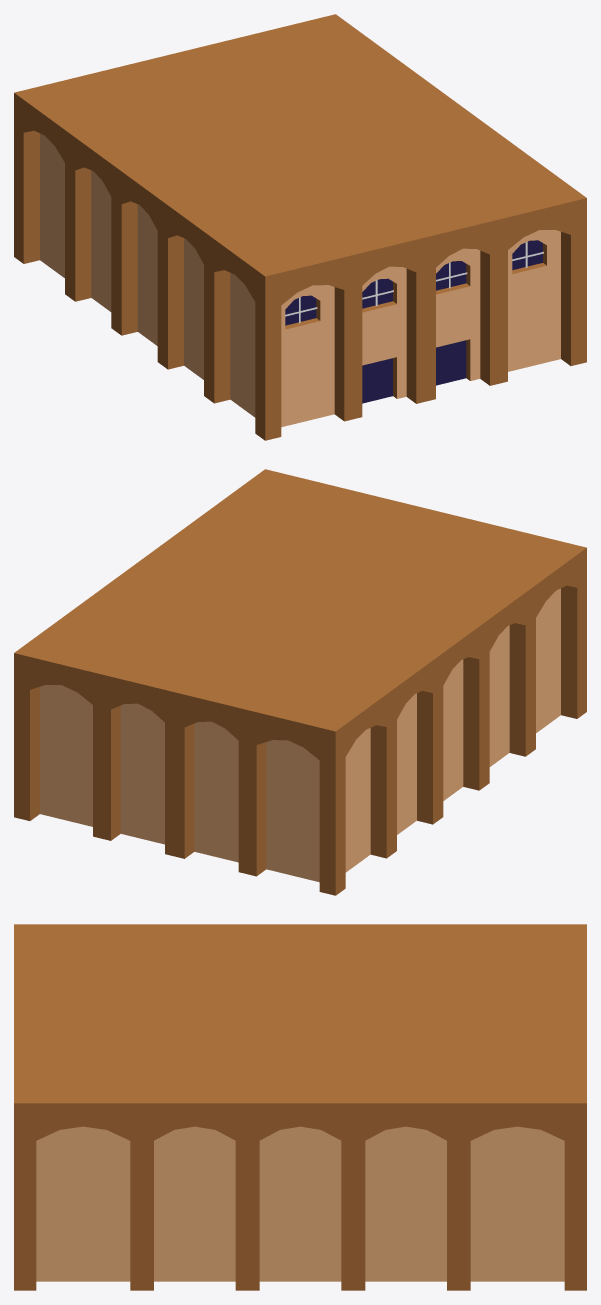
Rendered from UABCSGeneric2.glb.
The picture shows the model from 3 angles, top to bottom: view 1: azimuth 30°, elevation 25°; view 2: azimuth 150°, elevation 25°; view 3: azimuth 270°, elevation 25°; orthographic projection. The views are drawn at different scales.
Visible parts, largest first — view 1: UABCS-Generico2; view 2: UABCS-Generico2; view 3: UABCS-Generico2.
Boxes of the visible parts, x1=… form: UABCS-Generico2: x1=14, y1=14, x2=586, y2=440; UABCS-Generico2: x1=14, y1=469, x2=586, y2=895; UABCS-Generico2: x1=14, y1=924, x2=586, y2=1290.
Size of the model in its own units: 18.45 by 9 by 24.95.
Materials: 1 (1 with a texture image).
